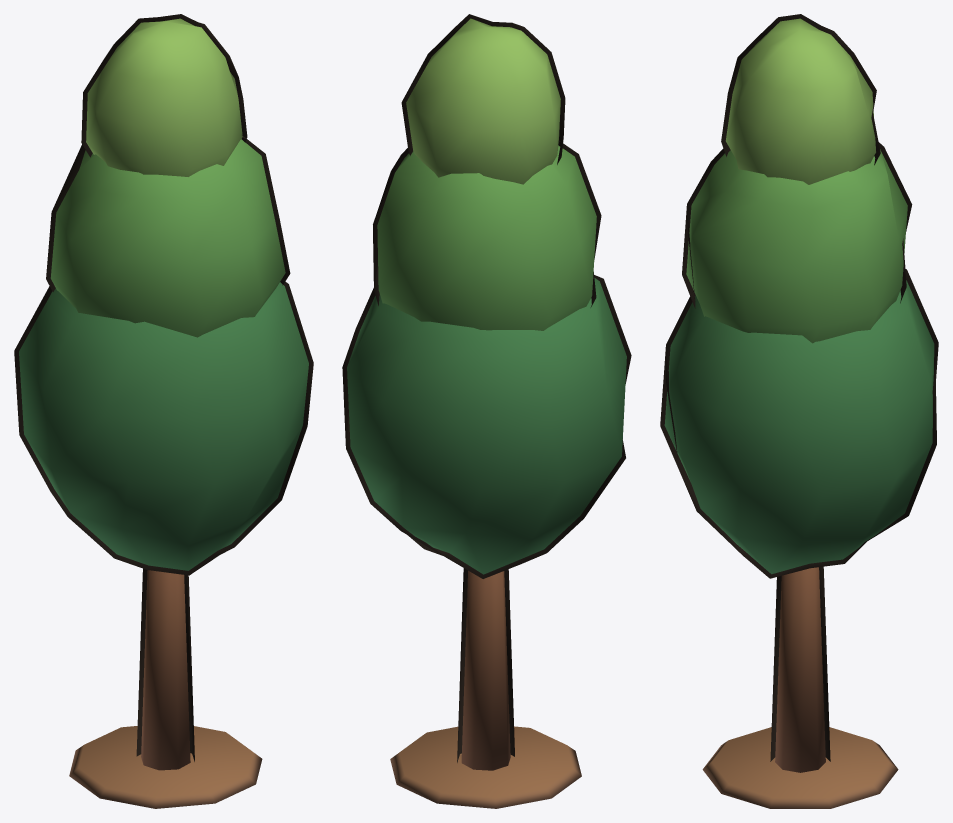
Rendered from Agac_Kavak.fbx.
The picture shows the model from 3 angles, left to right: view 1: azimuth 30°, elevation 25°; view 2: azimuth 150°, elevation 25°; view 3: azimuth 270°, elevation 25°; orthographic projection.
Visible parts, largest first — view 1: Agac_Kavak; view 2: Agac_Kavak; view 3: Agac_Kavak.
Part boxes in pixels (x1=…): Agac_Kavak: x1=14, y1=14, x2=313, y2=808; Agac_Kavak: x1=342, y1=14, x2=631, y2=808; Agac_Kavak: x1=660, y1=14, x2=938, y2=808.
Bounding box in the file's own units: 1.28 × 3.52 × 1.19.
2 materials, 1 textured.
